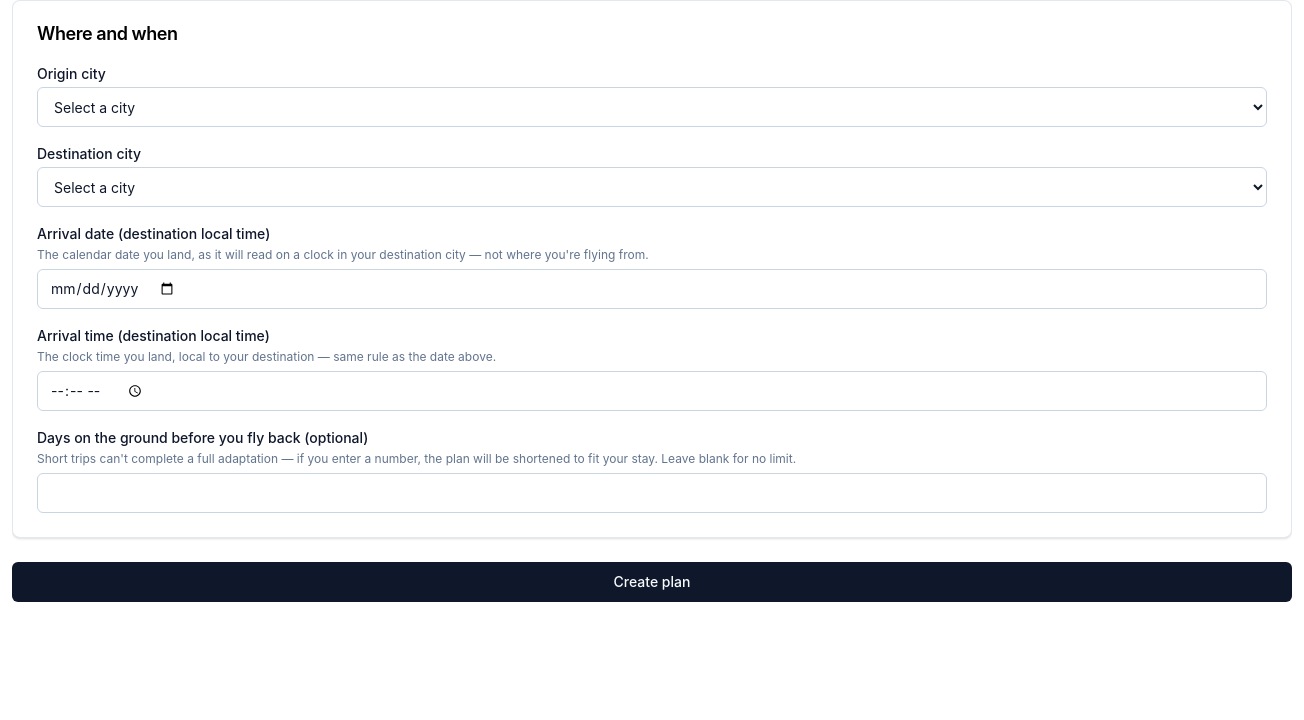
it: TripForm › shows an inline error for a non-positive availableDays value and does not submit
The width and height of the screenshot is (1304, 720).
Select "New York, United States" in the dropdown labelled "Origin city". click: (652, 107)
box: [37, 87, 1267, 127]
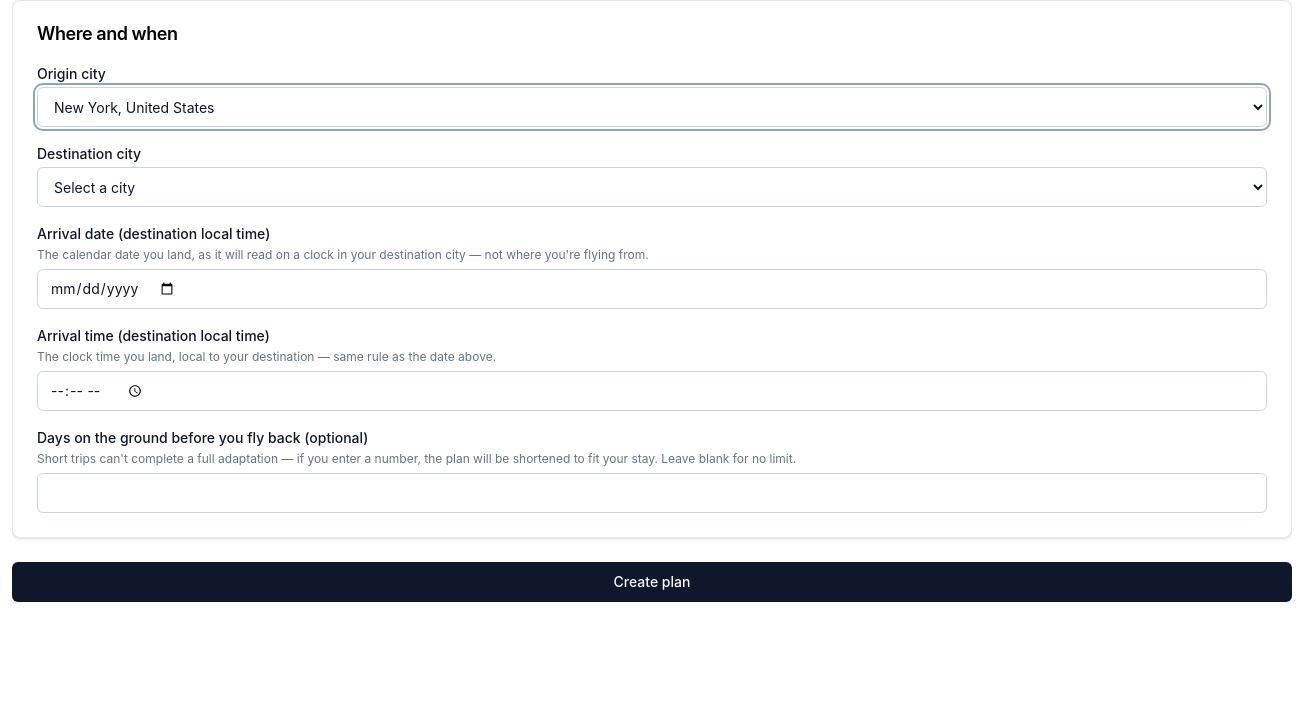
Select "Tokyo, Japan" in the dropdown labelled "Destination city". click: (652, 187)
box: [37, 167, 1267, 207]
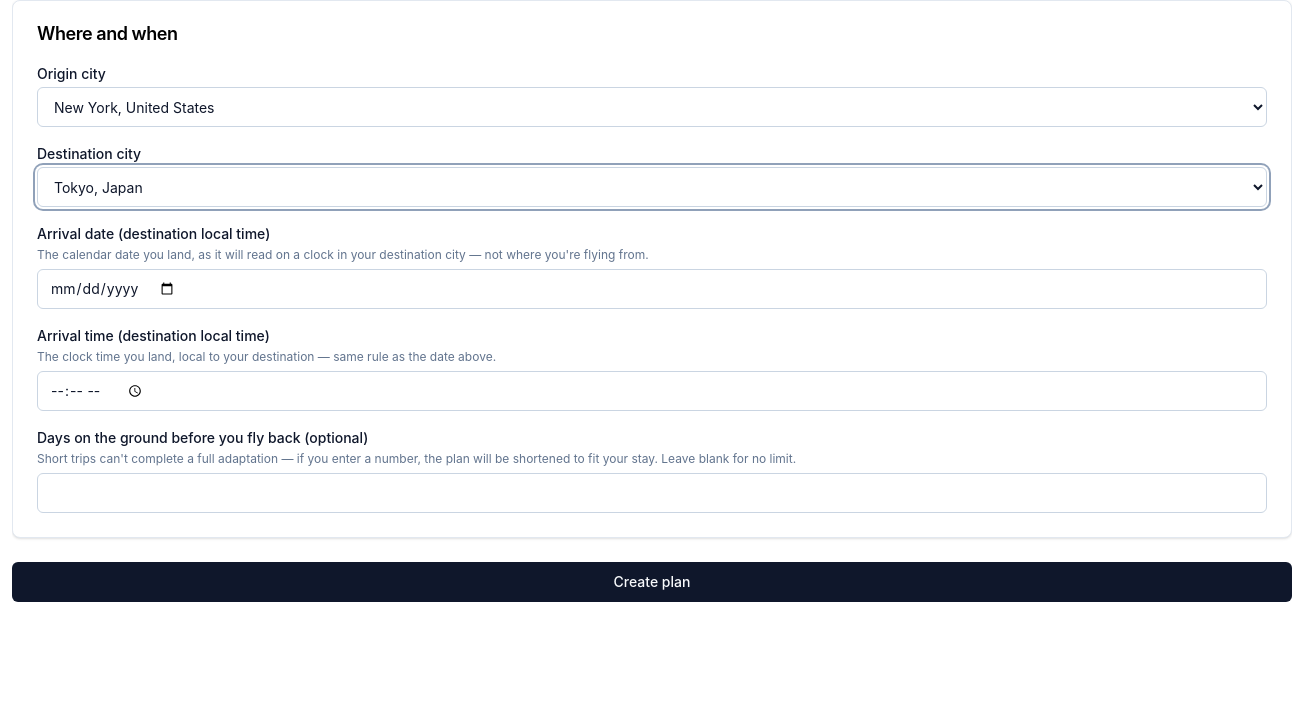
Type "2026-08-01" into the date field labelled "Arrival date (destination local time)". click: (652, 289)
box: [37, 269, 1267, 309]
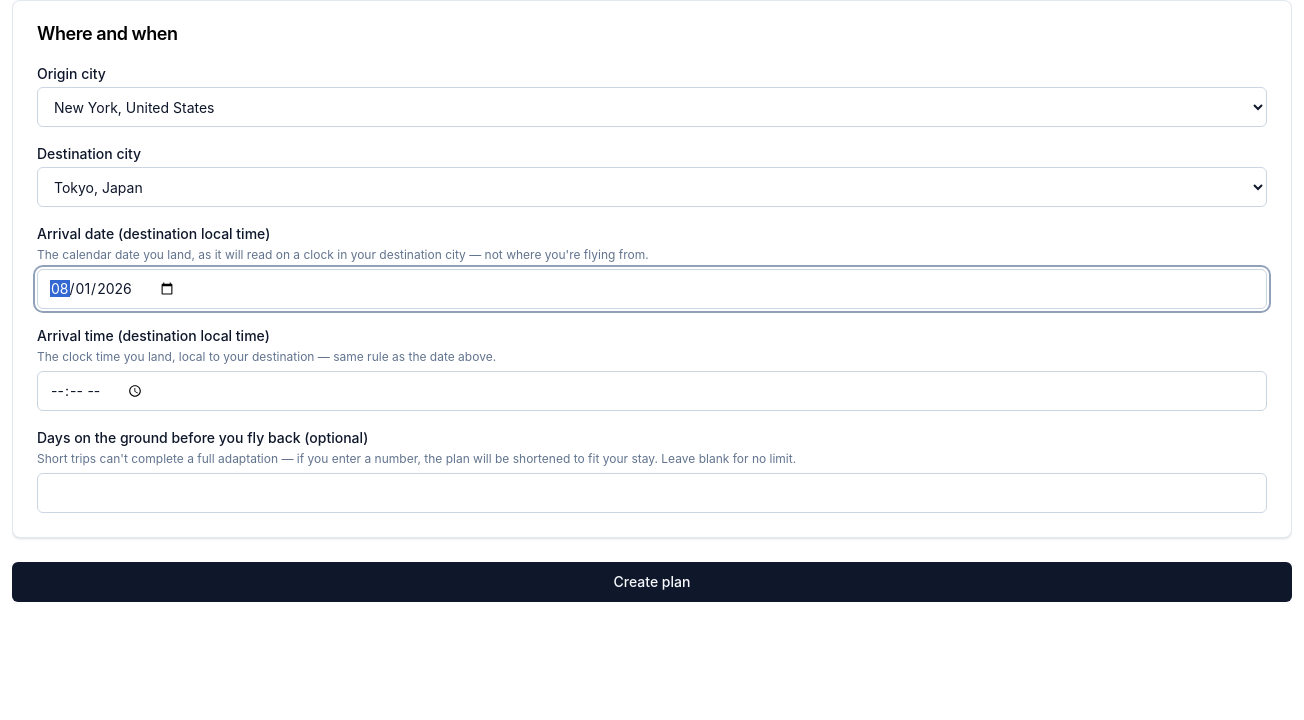
Type "09:15" into the time field labelled "Arrival time (destination local time)". click: (652, 391)
box: [37, 371, 1267, 411]
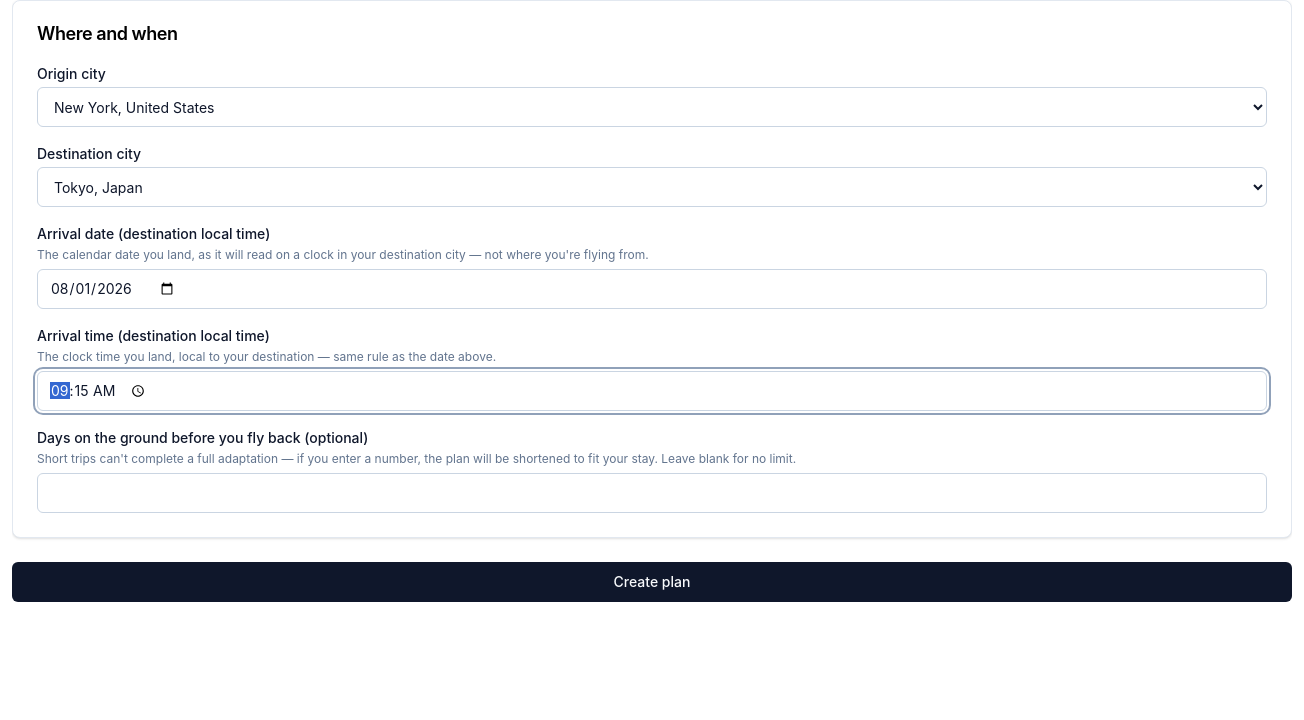
Type "0" into the number field labelled "Days on the ground before you fly back (optional)". click: (652, 493)
box: [37, 473, 1267, 513]
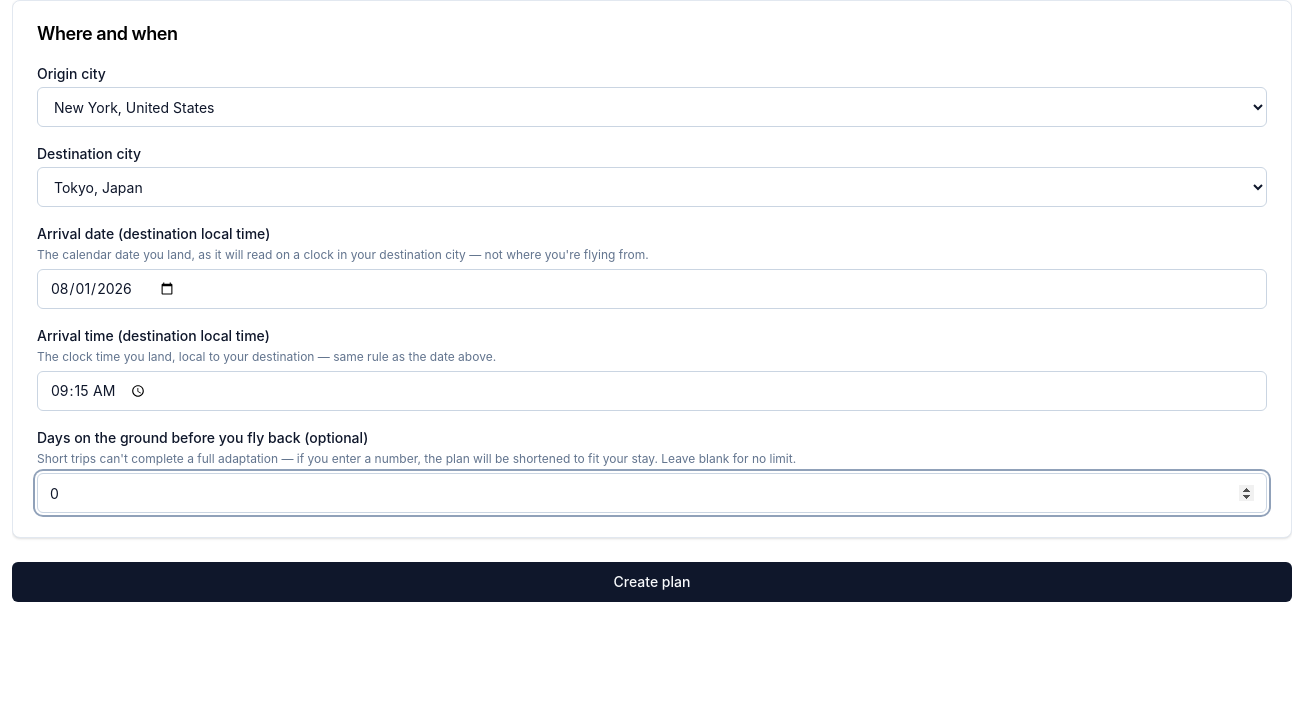
Click the button "Create plan". click: (652, 582)
box: [12, 562, 1292, 602]
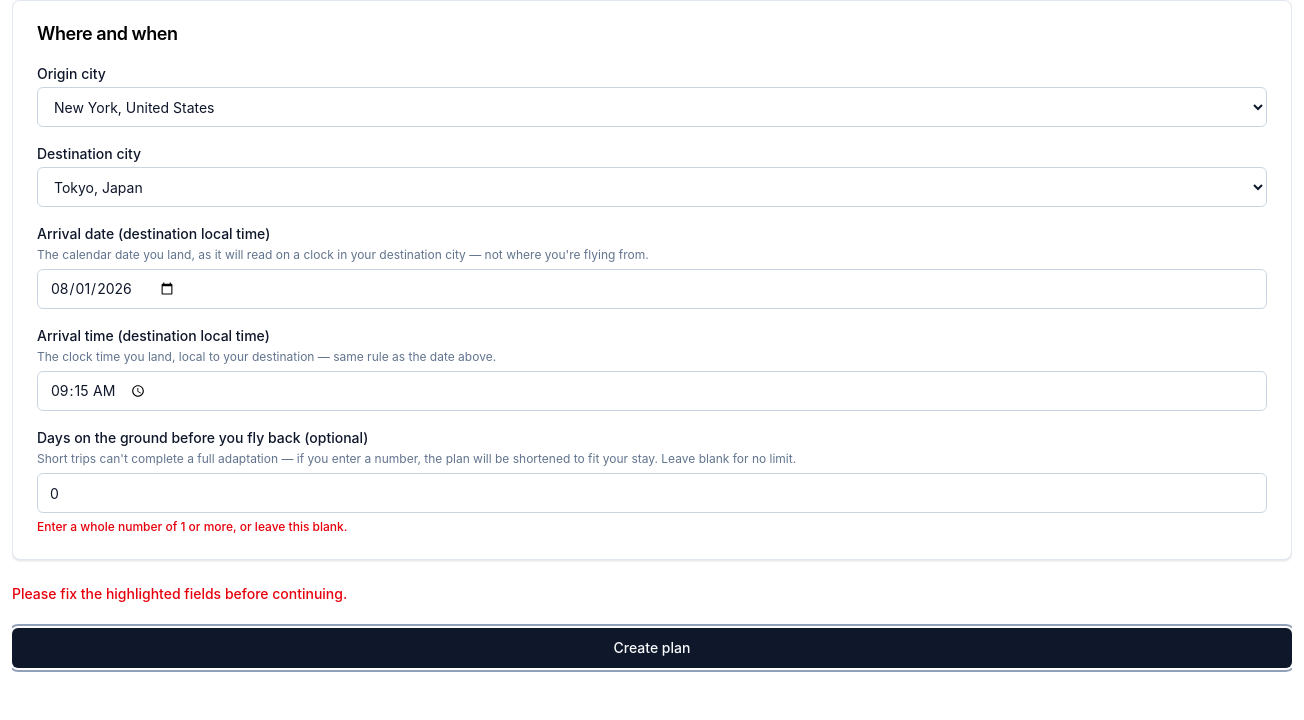
Check: the text "Enter a whole number of 1 or more, or leave this blank." is shown, box [37, 519, 347, 534]
